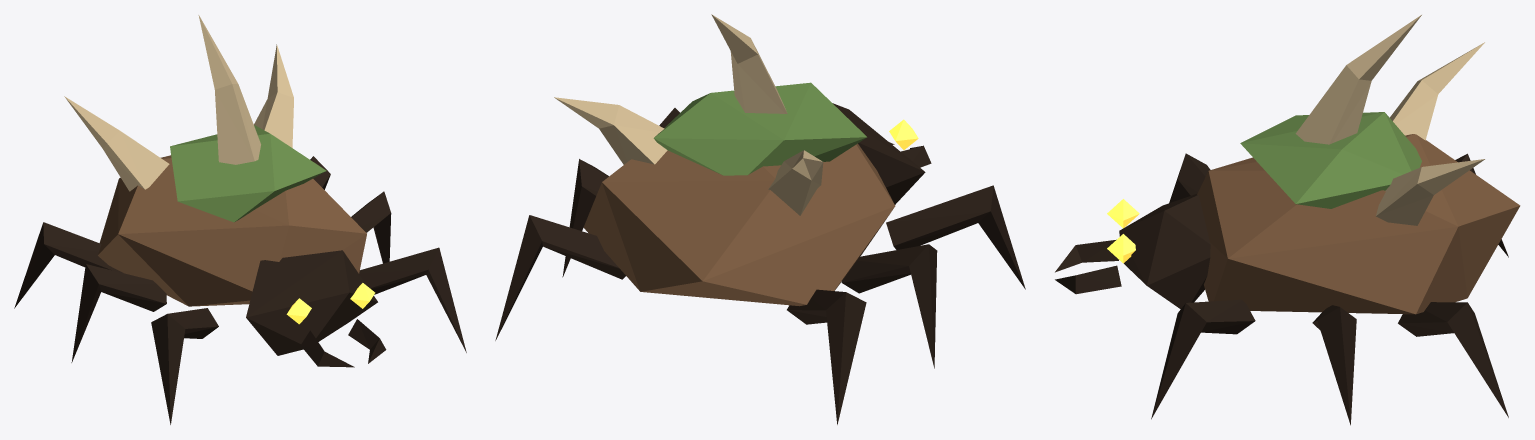
File: ThornSprout.fbx
3 views of the same model, side by side, from view 1: azimuth 30°, elevation 25°; view 2: azimuth 150°, elevation 25°; view 3: azimuth 270°, elevation 25° (orthographic). The views are drawn at different scales.
Visible parts, largest first — view 1: Shell, Head, Thorns, LegsR, Moss, LegsL, Eyes; view 2: Shell, LegsR, Moss, Thorns, LegsL, Head, Eyes; view 3: Shell, Thorns, Moss, LegsL, Head, LegsR, Eyes.
Boxes of the visible parts, <box> form: Shell: <box>97,155,366,306</box>; Head: <box>246,250,386,367</box>; Thorns: <box>64,15,293,191</box>; LegsR: <box>14,222,218,424</box>; Moss: <box>170,125,326,222</box>; LegsL: <box>310,156,466,352</box>; Eyes: <box>286,283,375,324</box>; Shell: <box>583,143,895,306</box>; LegsR: <box>787,185,1025,424</box>; Moss: <box>653,82,866,175</box>; Thorns: <box>554,14,823,215</box>; LegsL: <box>495,108,679,340</box>; Head: <box>832,103,931,204</box>; Eyes: <box>889,119,918,149</box>; Shell: <box>1197,134,1520,314</box>; Thorns: <box>1295,15,1484,225</box>; Moss: <box>1240,112,1421,208</box>; LegsL: <box>1151,299,1508,425</box>; Head: <box>1055,194,1210,309</box>; LegsR: <box>1169,153,1508,257</box>; Eyes: <box>1107,199,1139,263</box>.
Size of the model in its own units: 3 by 2.6 by 3.38.
